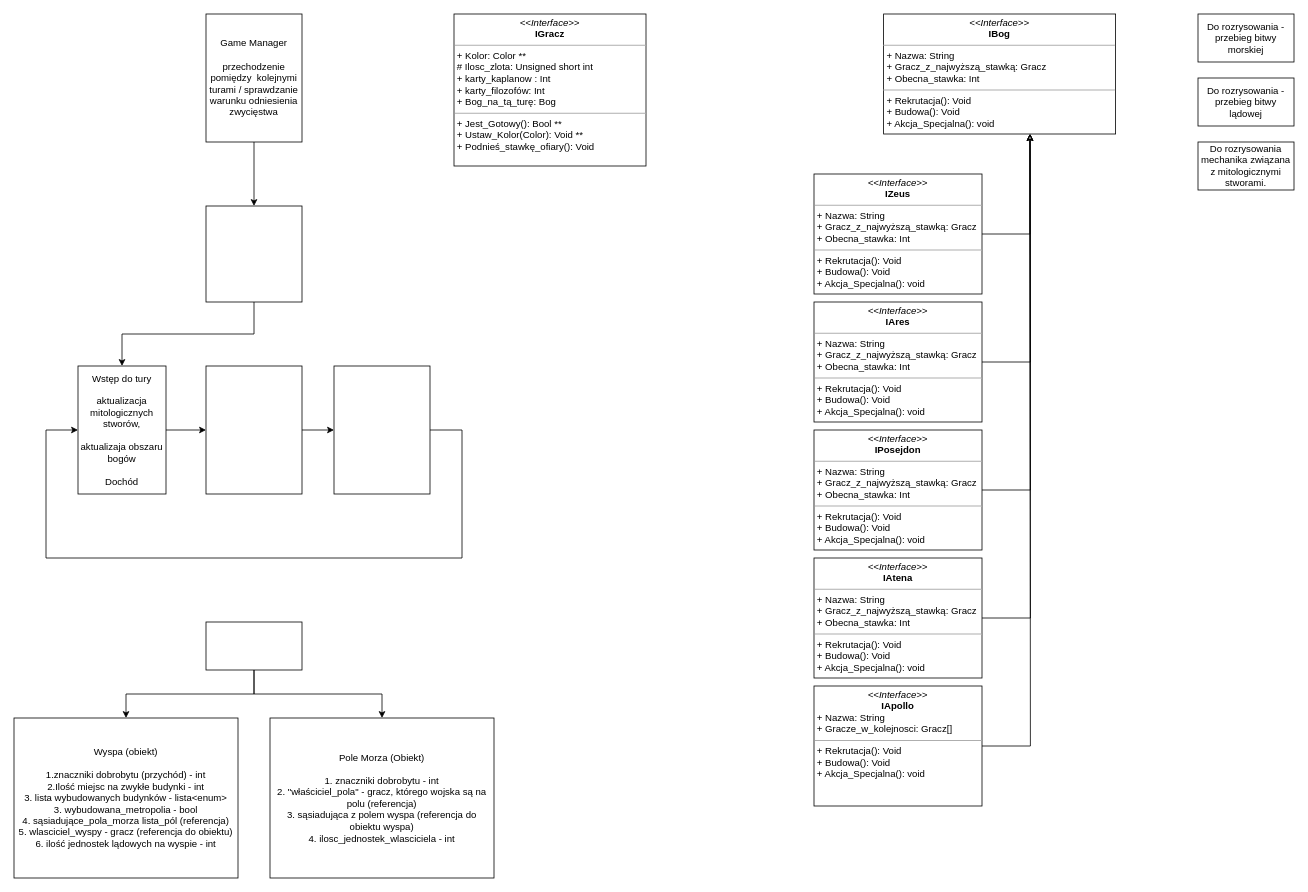
The diagram is 1308 pixels wide and 892 high, and some of its shapes have lost their labels. The shapes that lost their labels are listed below. From the top down, each one's box as (x1, y1, x2, y2) in pixels, then its label:
(205, 205, 302, 302): Turn Manager Obsługa tur - wywoływanie kolejnych faz rozgrywki
(205, 365, 302, 494): Składanie Ofiar ustalanie kolejności graczy podczas następnej fazy
(333, 365, 430, 494): Wykonywanie akcji
(205, 621, 302, 670): Mapa (obiekt)
